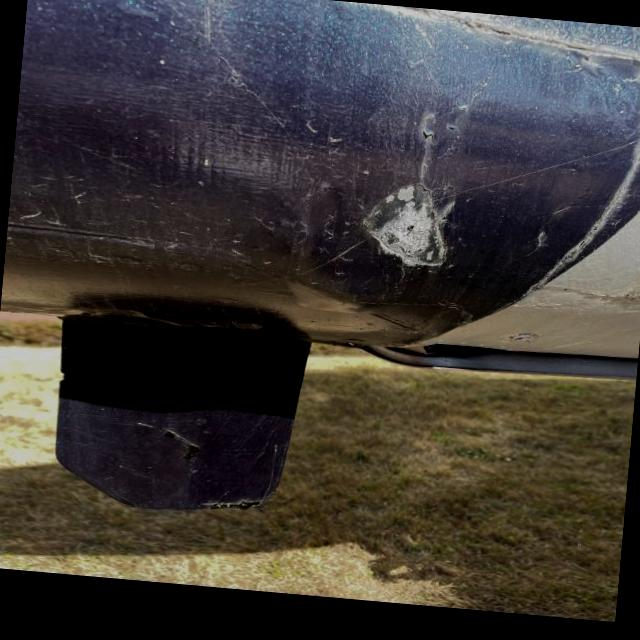crack: (406, 119, 472, 148)
dent: (356, 181, 455, 268)
